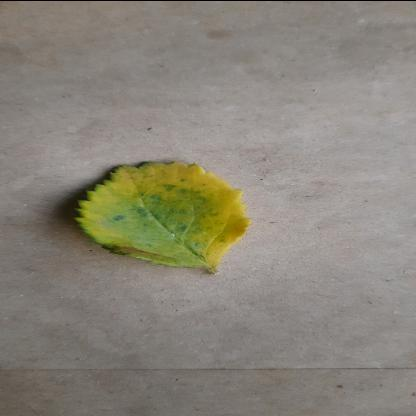black-spot: (64, 156, 254, 268)
